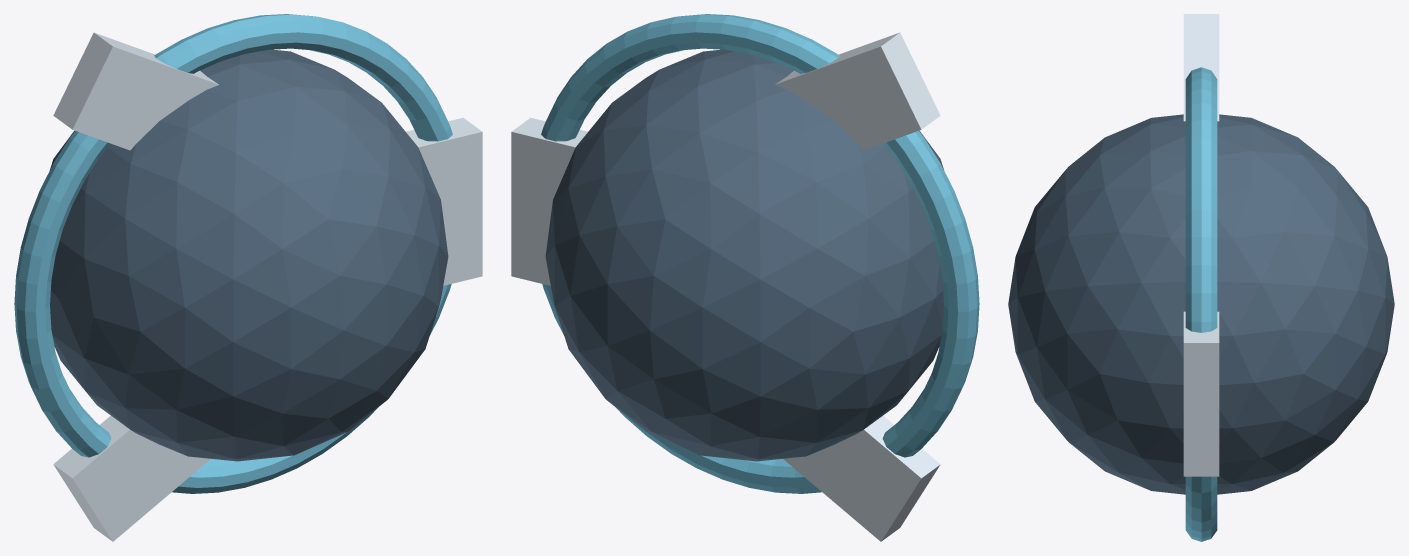
File: vsh-2.glb
3 renders of one model, left to right at view 1: azimuth 30°, elevation 25°; view 2: azimuth 150°, elevation 25°; view 3: azimuth 270°, elevation 25°, orthographic. The views are drawn at different scales.
Visible parts, largest first — view 1: Core0, HullRing8, Armor3, Armor4, Armor2, Armor7, Armor5, Armor6; view 2: Core0, HullRing8, Armor3, Armor4, Armor2, Armor7, Armor6, Armor5; view 3: Core0, HullRing8, Armor2, Armor3.
Part boxes in pixels (x1=…): Core0: x1=49, y1=49, x2=448, y2=461; HullRing8: x1=14, y1=14, x2=452, y2=493; Armor3: x1=53, y1=32, x2=218, y2=150; Armor4: x1=53, y1=416, x2=210, y2=541; Armor2: x1=406, y1=117, x2=482, y2=285; Armor7: x1=74, y1=433, x2=197, y2=540; Armor5: x1=425, y1=132, x2=482, y2=284; Armor6: x1=74, y1=49, x2=216, y2=149; Core0: x1=545, y1=49, x2=944, y2=461; HullRing8: x1=541, y1=14, x2=979, y2=493; Armor3: x1=775, y1=32, x2=940, y2=150; Armor4: x1=783, y1=416, x2=940, y2=541; Armor2: x1=511, y1=117, x2=587, y2=285; Armor7: x1=784, y1=431, x2=920, y2=539; Armor6: x1=777, y1=46, x2=920, y2=148; Armor5: x1=511, y1=132, x2=571, y2=285; Core0: x1=1008, y1=114, x2=1394, y2=494; HullRing8: x1=1185, y1=67, x2=1217, y2=541; Armor2: x1=1183, y1=311, x2=1219, y2=476; Armor3: x1=1183, y1=14, x2=1219, y2=121.
Bounding box in the file's own units: 1.92 × 1.99 × 1.52.
